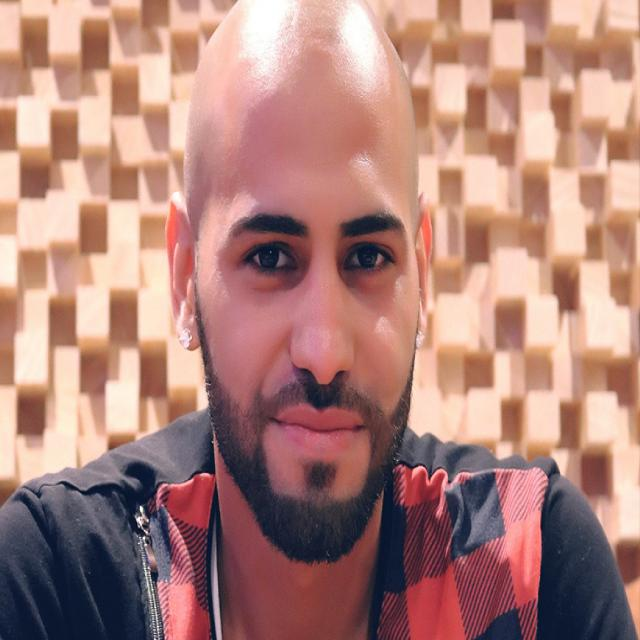beard: (196, 302, 414, 564)
